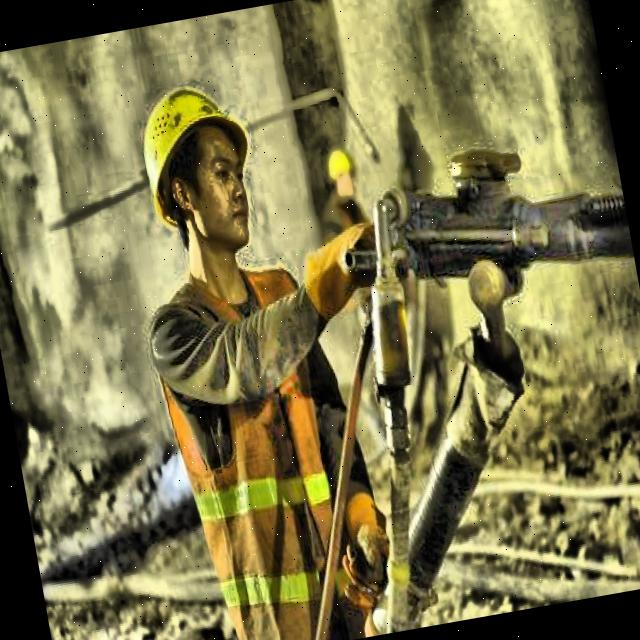helmet: (123, 59, 282, 287), (319, 137, 367, 210)
